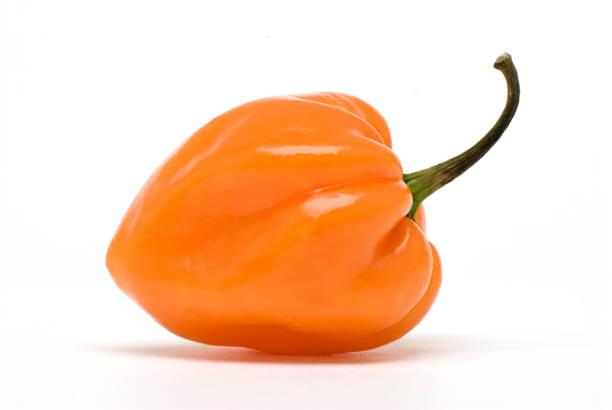Capsicum: (103, 87, 444, 357)
